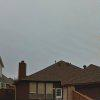Chimney: (13, 53, 33, 84)
